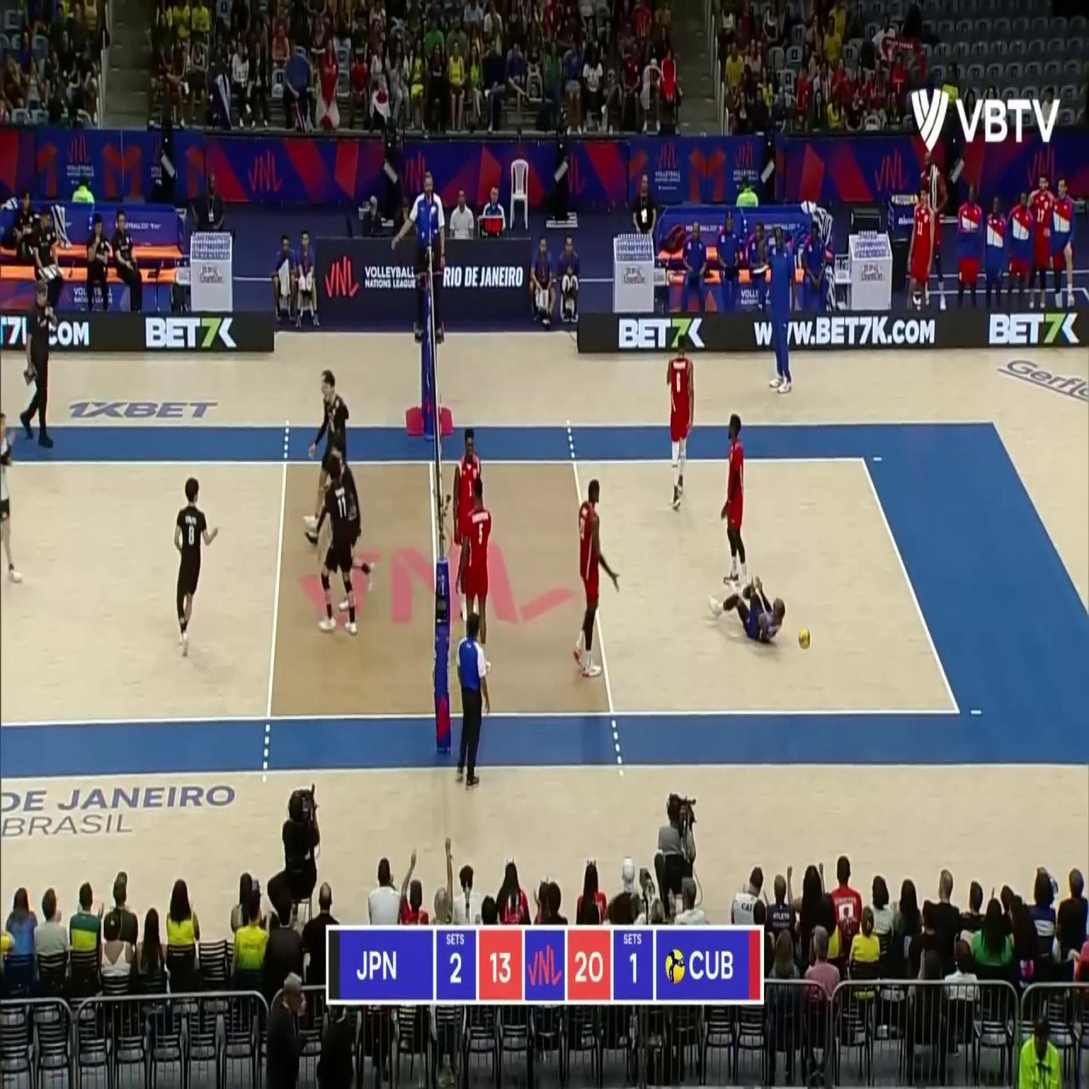ball: (799, 626, 811, 649)
